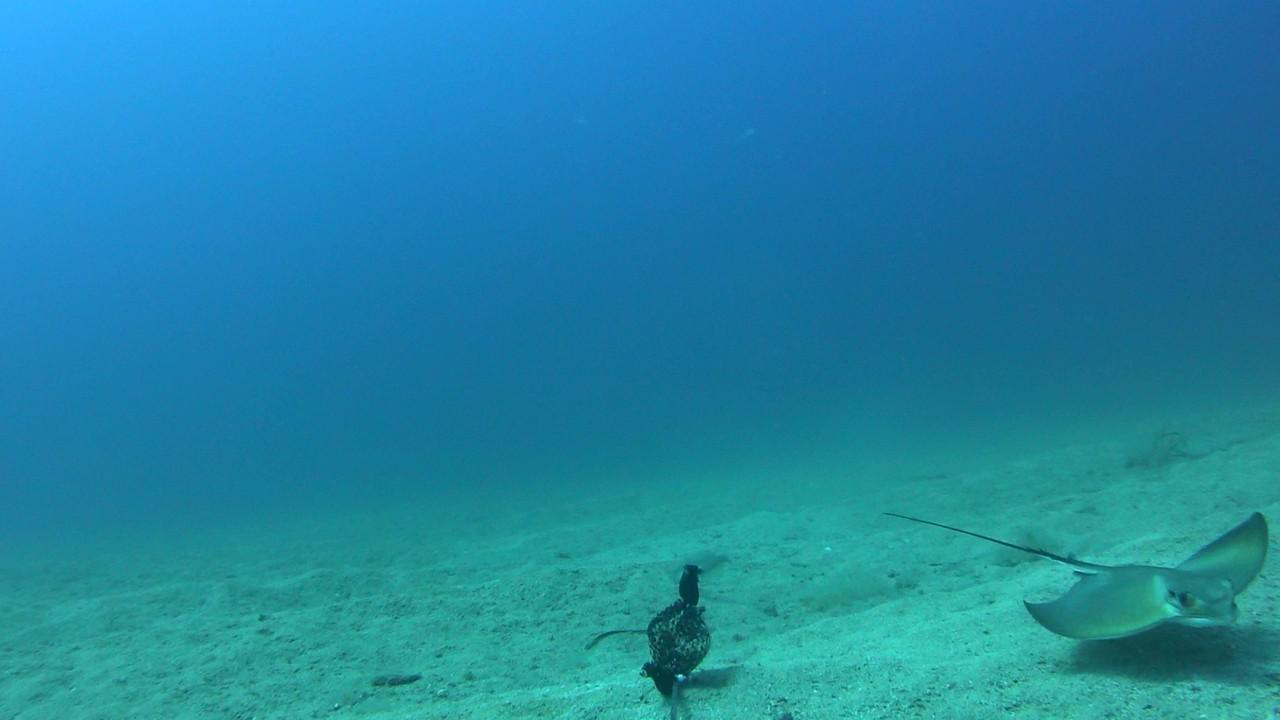myliobatis: (869, 463, 1274, 645)
